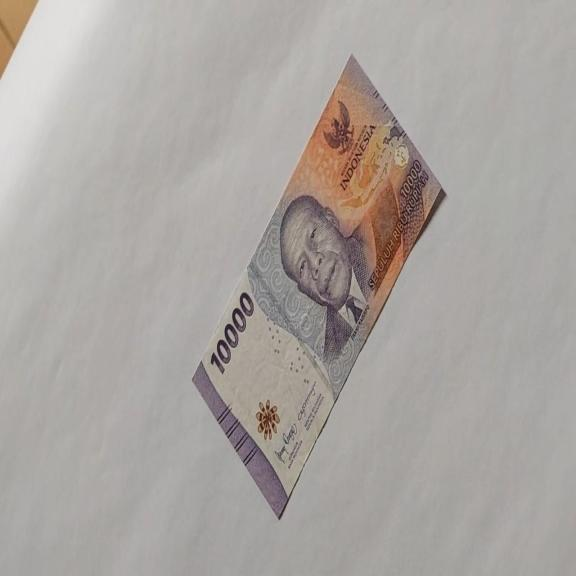Kertas: (190, 51, 447, 520), (210, 290, 254, 376)
